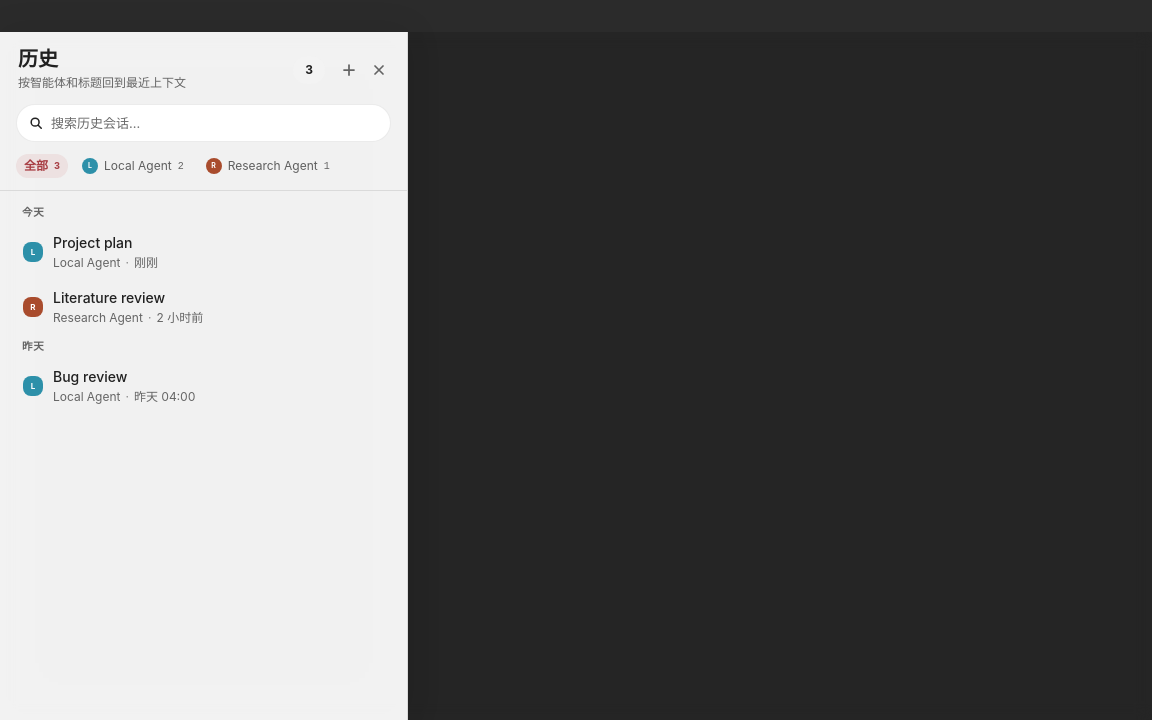
Scenario: HistoryDrawer — agent filter chips › clicking 全部 clears the active filter
Click the button "R Research Agent 1".
click(268, 166)  # box [198, 154, 338, 178]
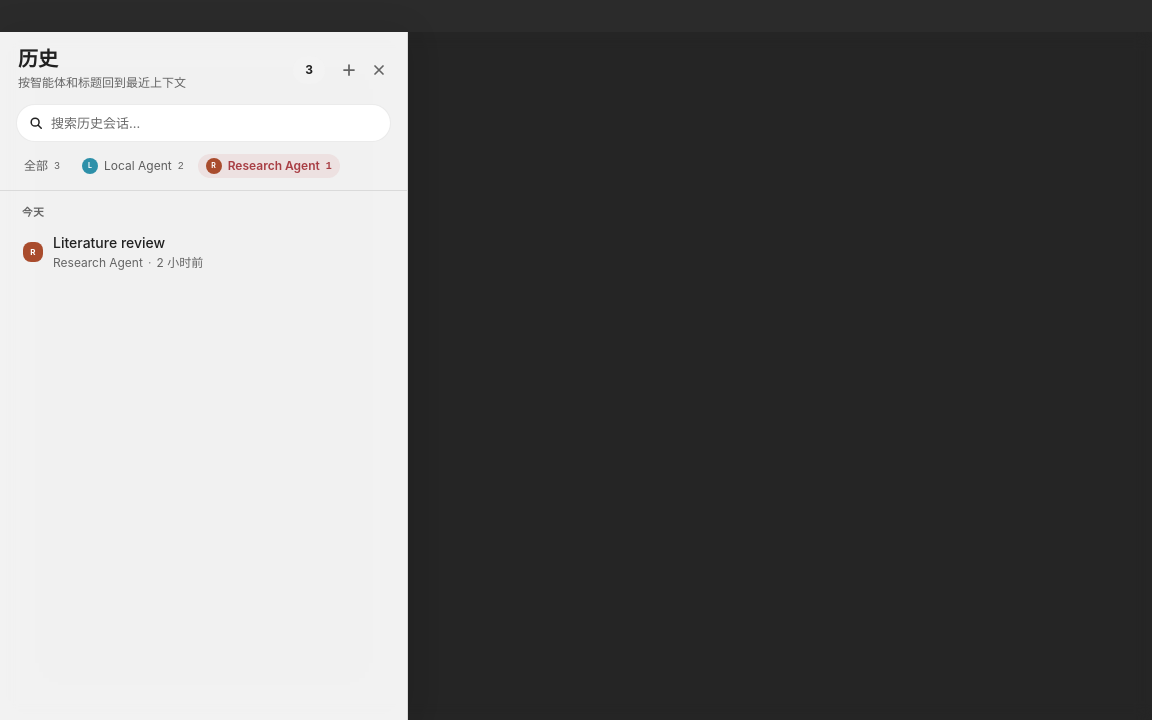
Expected: the button "Project plan" is gone
Click the button "全部 3".
click(42, 166)  # box [16, 154, 68, 178]
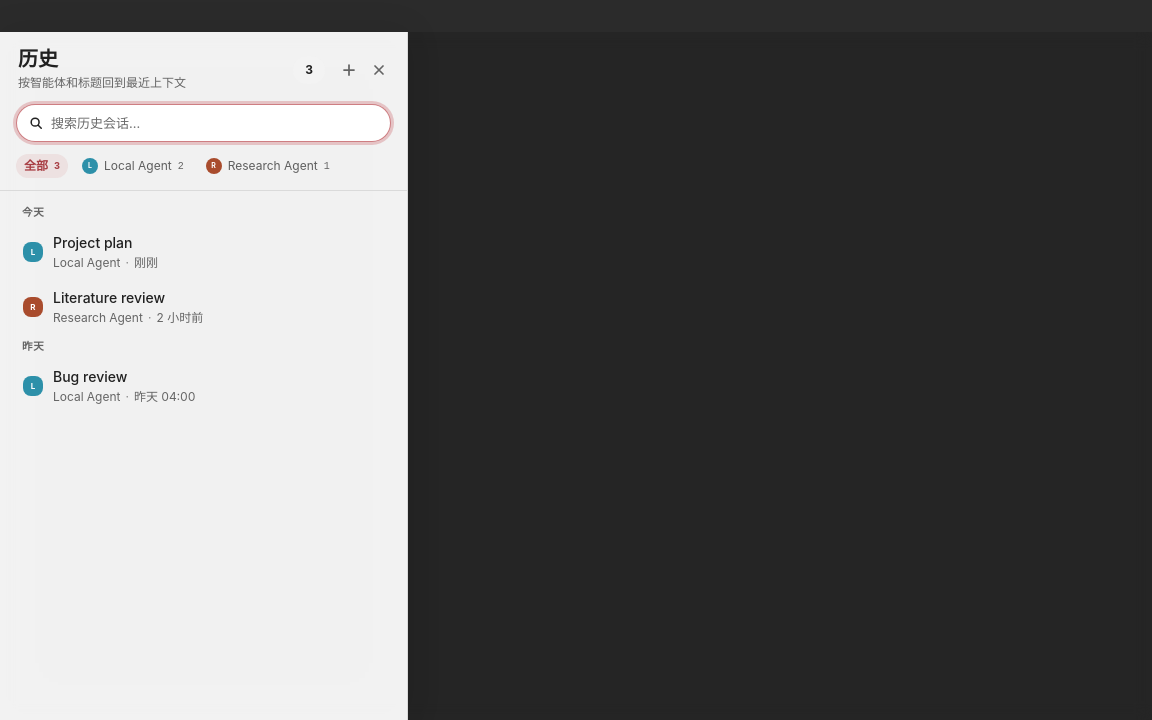
Expected: the text "Literature review" is shown, [53, 289, 165, 306]
Expected: the text "Project plan" is shown, [53, 234, 132, 251]
